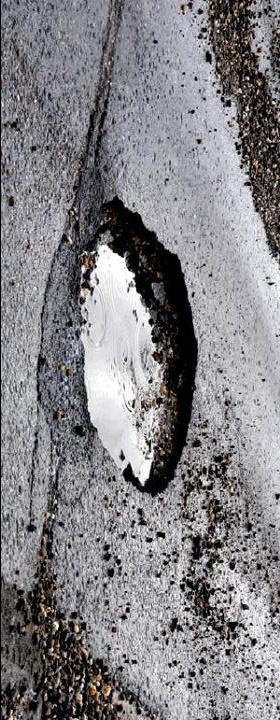pothole: (77, 190, 202, 503)
